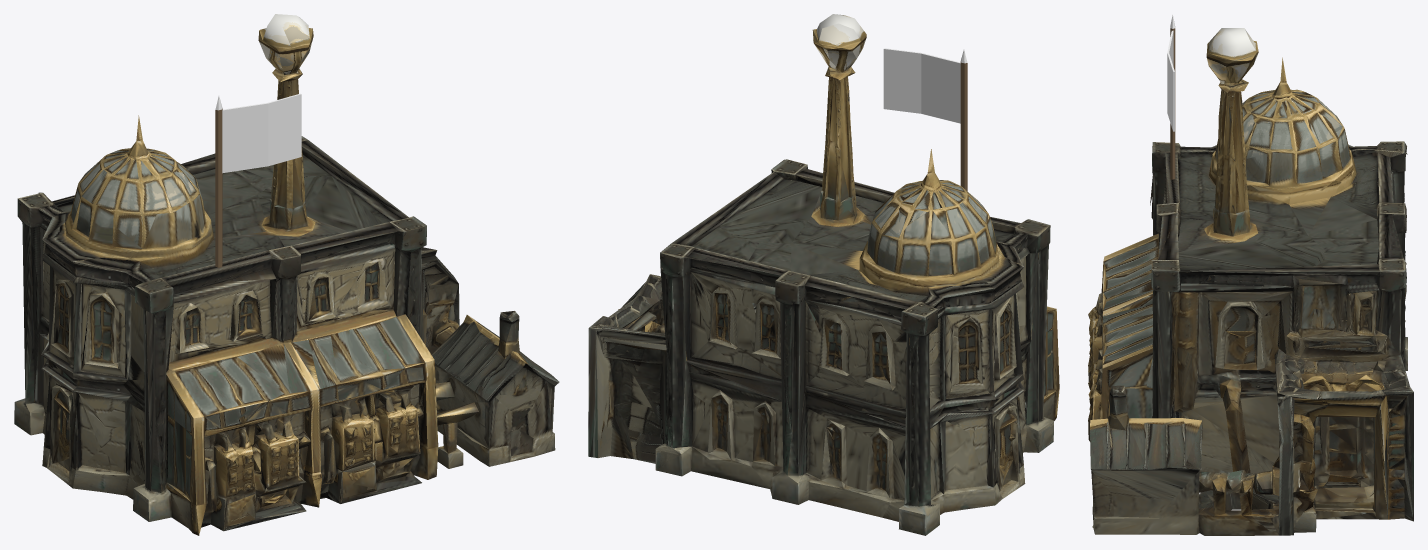
The picture shows the model from 3 angles, left to right: view 1: azimuth 30°, elevation 25°; view 2: azimuth 150°, elevation 25°; view 3: azimuth 270°, elevation 25°; orthographic projection. The views are drawn at different scales.
Parts seen in each view (by area): view 1: laboratory, Team_banner; view 2: laboratory, Team_banner; view 3: laboratory, Team_banner.
Boxes of the visible parts, box(x1,y1,x2,y2) form: laboratory: box(14, 14, 559, 535); Team_banner: box(215, 93, 301, 267); laboratory: box(588, 14, 1059, 535); Team_banner: box(883, 48, 967, 191); laboratory: box(1088, 28, 1413, 535); Team_banner: box(1167, 14, 1175, 179).
Bounding box in the file's own units: 1.88 × 1.9 × 1.35.
3 materials, 1 textured.
